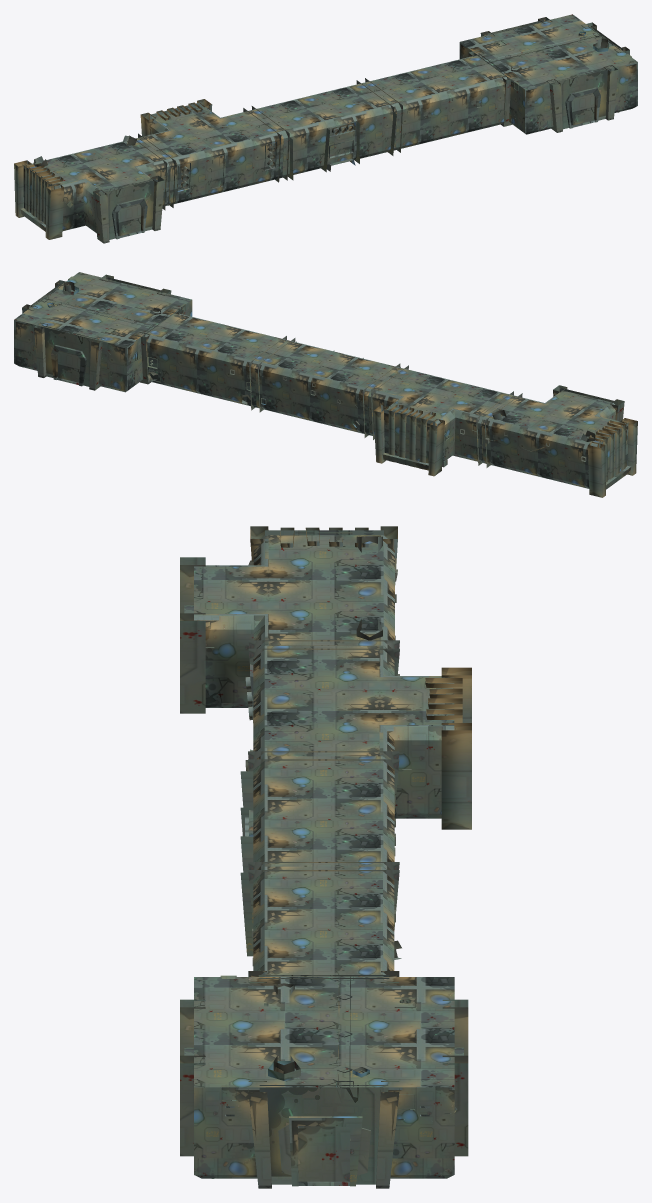
File: Combined_Mesh_root_scene__7_93922163__zombies2_diffuse_02_6de118bf_c1f257.obj
3 renders of one model, top to bottom at view 1: azimuth 30°, elevation 25°; view 2: azimuth 150°, elevation 25°; view 3: azimuth 270°, elevation 25°, orthographic. The views are drawn at different scales.
Size of the model in its own units: 102 by 9.84 by 22.39.
85 materials, 85 textured.
